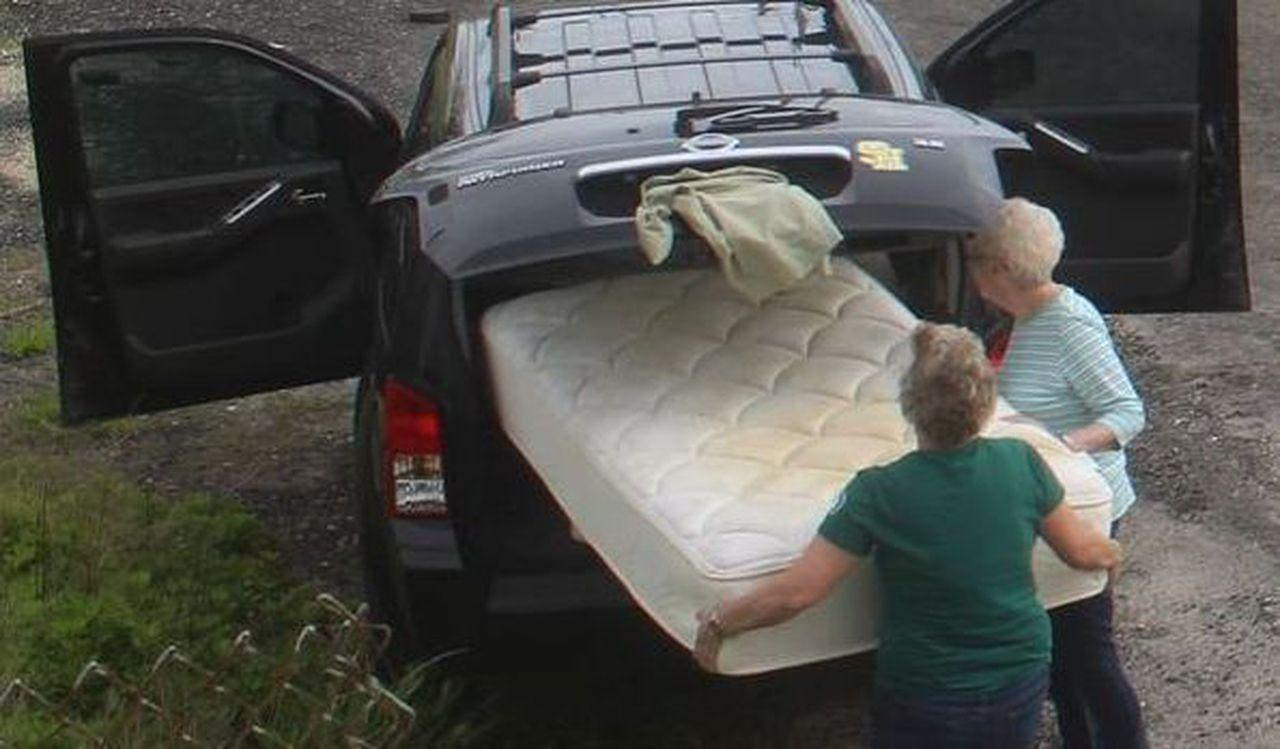Bed-Mattress: (449, 219, 1124, 707)
